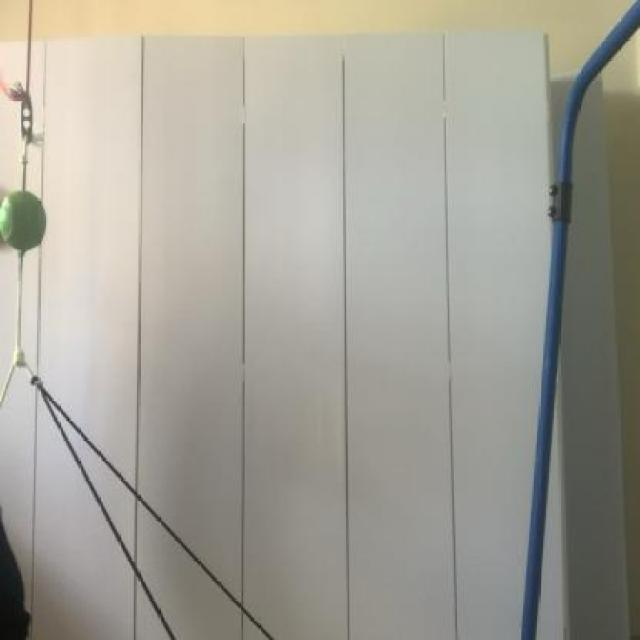baseball: (0, 182, 52, 262)
